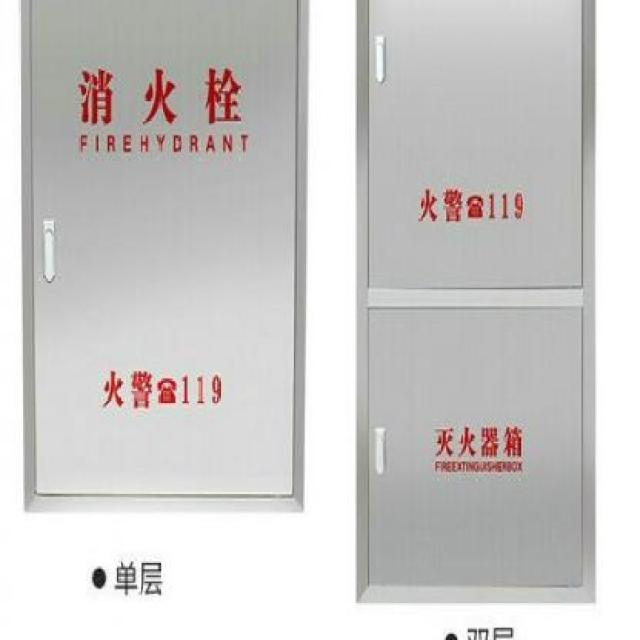firehydrant: (16, 1, 312, 518), (352, 0, 598, 609)
